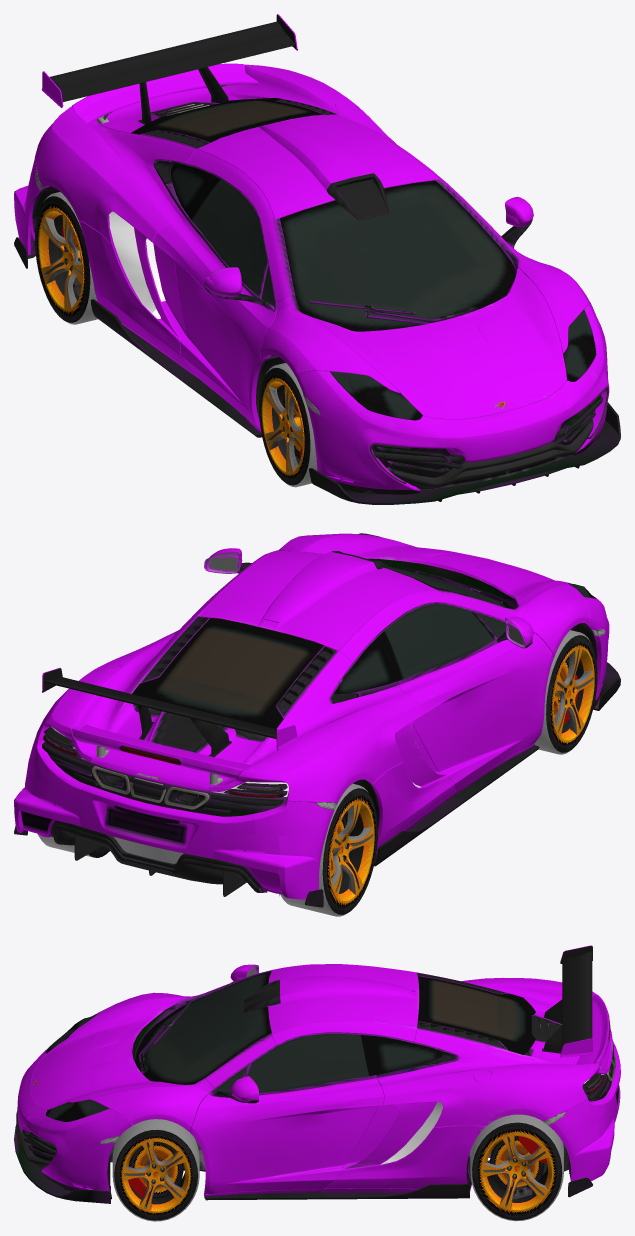
3 views of the same model, one above another, from view 1: azimuth 30°, elevation 25°; view 2: azimuth 150°, elevation 25°; view 3: azimuth 270°, elevation 25° (orthographic). The views are drawn at different scales.
Visible parts, largest first — view 1: x0_main_bo, x0_window_003, x0_l1_bonn, x0_door_fr, x0_l1_bump005, x0_l2_spoi, x0_l1_bump002, x0_l2_bump007, x0_l2_bonn, x0_l2_spoi001, x0_wing_fr, x0_window_005 (+18 smaller); view 2: x0_main_bo, x0_door_fr, x0_window_, x0_l1_bump001, x0_l2_bump001, x0_window_005, x0_l2_spoi, x0_l2_spoi001, x0_wheel_b001, x0_l1_bump004, x0_wing_fr, x0_l1_bonn (+21 smaller); view 3: x0_main_bo, x0_door_fl, x0_window_003, x0_l1_bonn, x0_window_, x0_window_004, x0_l1_bump003, x0_l2_spoi, x0_wing_fl, x0_tyre_bl, x0_tyre_fl, x0_wheel_b (+20 smaller).
Boxes of the visible parts, bbox=[...] form: x0_main_bo: bbox=[36, 64, 507, 419]; x0_window_003: bbox=[280, 180, 516, 331]; x0_l1_bonn: bbox=[312, 267, 566, 419]; x0_door_fr: bbox=[152, 216, 277, 432]; x0_l1_bump005: bbox=[296, 370, 442, 493]; x0_l2_spoi: bbox=[41, 14, 297, 124]; x0_l1_bump002: bbox=[413, 387, 571, 488]; x0_l2_bump007: bbox=[412, 403, 589, 501]; x0_l2_bonn: bbox=[324, 280, 566, 419]; x0_l2_spoi001: bbox=[259, 122, 389, 220]; x0_wing_fr: bbox=[260, 296, 400, 393]; x0_window_005: bbox=[191, 179, 275, 307]; x0_main_bo: bbox=[36, 550, 508, 854]; x0_door_fr: bbox=[397, 611, 553, 794]; x0_window_: bbox=[132, 618, 323, 728]; x0_l1_bump001: bbox=[71, 785, 222, 884]; x0_l2_bump001: bbox=[232, 801, 334, 907]; x0_window_005: bbox=[384, 604, 506, 678]; x0_l2_spoi: bbox=[42, 668, 297, 756]; x0_l2_spoi001: bbox=[259, 551, 388, 630]; x0_wheel_b001: bbox=[329, 800, 374, 903]; x0_l1_bump004: bbox=[202, 799, 333, 894]; x0_wing_fr: bbox=[505, 581, 590, 657]; x0_l1_bonn: bbox=[314, 537, 560, 603]; x0_main_bo: bbox=[204, 964, 612, 1193]; x0_door_fl: bbox=[190, 1063, 384, 1195]; x0_window_003: bbox=[134, 971, 271, 1084]; x0_l1_bonn: bbox=[31, 1002, 177, 1110]; x0_window_: bbox=[417, 976, 535, 1054]; x0_window_004: bbox=[212, 1034, 368, 1092]; x0_l1_bump003: bbox=[25, 1108, 132, 1199]; x0_l2_spoi: bbox=[542, 945, 592, 1057]; x0_wing_fl: bbox=[69, 1077, 214, 1131]; x0_tyre_bl: bbox=[470, 1114, 563, 1221]; x0_tyre_fl: bbox=[112, 1119, 199, 1221]; x0_wheel_b: bbox=[480, 1132, 553, 1211].
Size of the model in its own units: 1751 by 1154 by 3499.
Materials: 9 (6 with a texture image).
